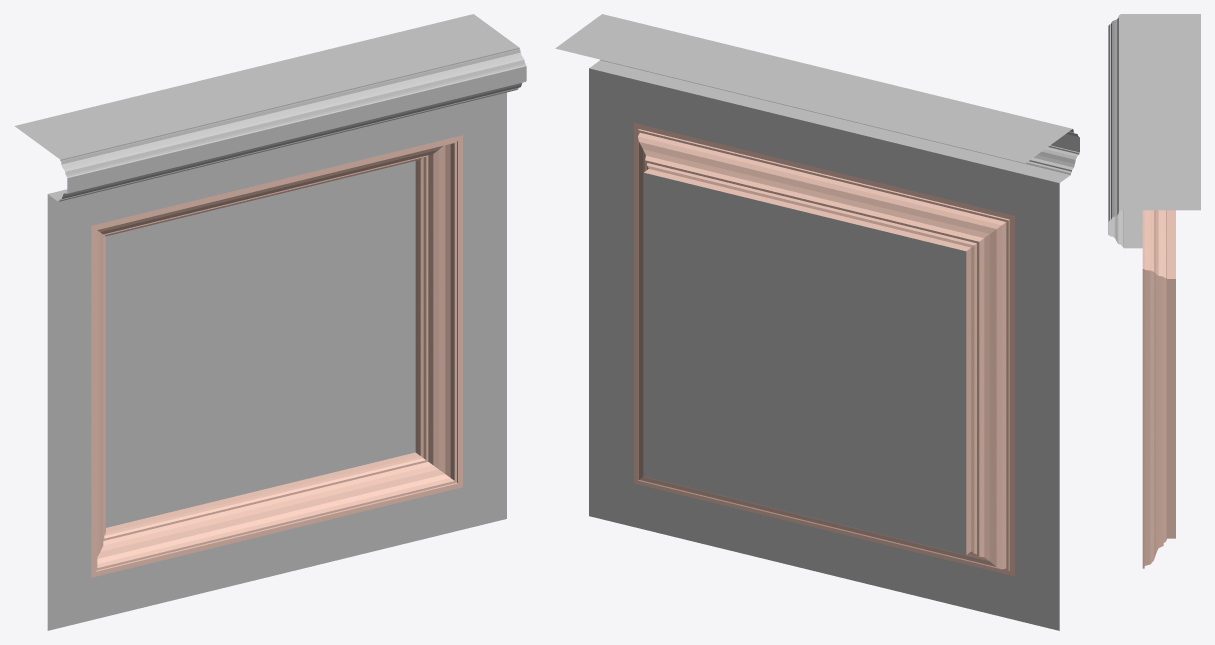
File: Shop_Wall_Siding.fbx
3 renders of one model, left to right at view 1: azimuth 30°, elevation 25°; view 2: azimuth 150°, elevation 25°; view 3: azimuth 270°, elevation 25°, orthographic. The views are drawn at different scales.
Visible parts, largest first — view 1: Wall_Siding; view 2: Wall_Siding; view 3: Wall_Siding.
Boxes of the visible parts, left/top/right/bottom form: Wall_Siding: left=15, top=14, right=526, bottom=630; Wall_Siding: left=555, top=14, right=1079, bottom=630; Wall_Siding: left=1108, top=14, right=1200, bottom=568.
Bounding box in the file's own units: 100 × 100 × 20.
